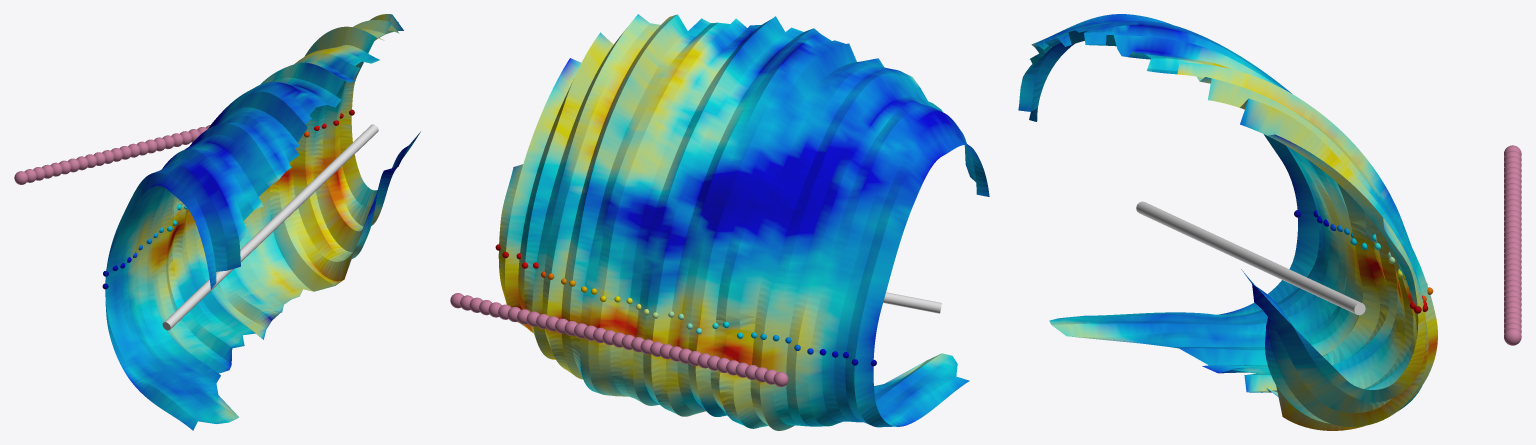
The model's file is Jet_data_vole_65_7E_id2_L23.gltf.
The picture shows the model from 3 angles, left to right: view 1: azimuth 30°, elevation 25°; view 2: azimuth 150°, elevation 25°; view 3: azimuth 270°, elevation 25°; orthographic projection. The views are drawn at different scales.
Size of the model in its own units: 3.54 by 3.45 by 3.96.
